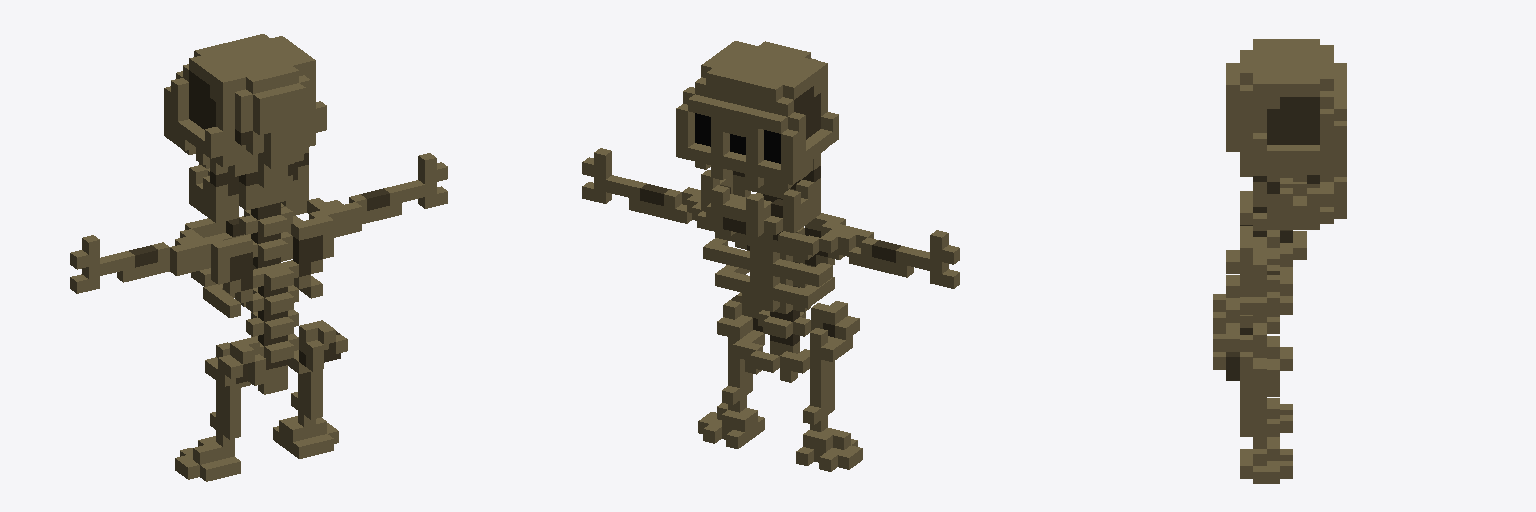
The picture shows the model from 3 angles: view 1: azimuth 30°, elevation 25°; view 2: azimuth 150°, elevation 25°; view 3: azimuth 270°, elevation 25°; orthographic projection.
Parts seen in each view (by area): view 1: object 1; view 2: object 1; view 3: object 1.
Boxes of the visible parts, x1,y1,x2,y2 form: object 1: [70, 34, 447, 481]; object 1: [582, 41, 959, 471]; object 1: [1213, 39, 1346, 483].
Bounding box in the file's own units: 3.2 × 3.2 × 1.
1 materials, 1 textured.